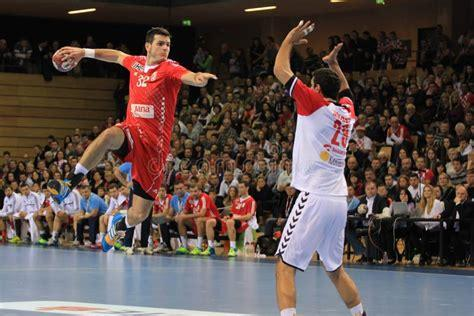ballon_handball: (53, 49, 78, 73)
